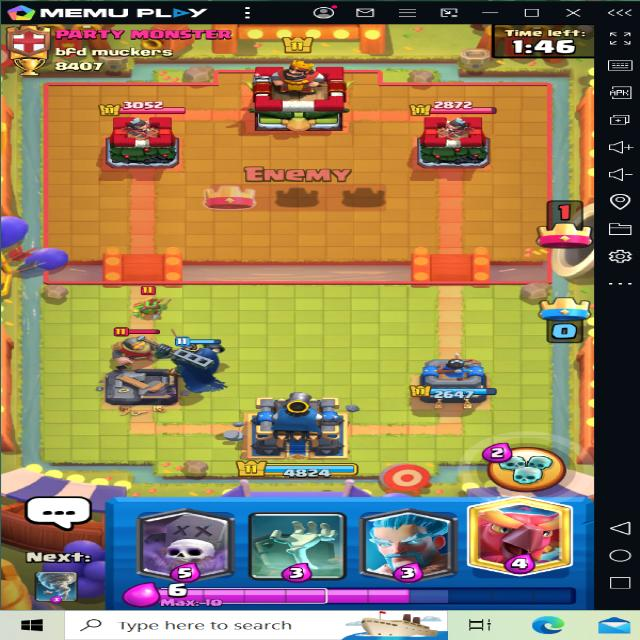knight: (95, 330, 163, 366)
spear-goblin: (125, 286, 168, 320)
